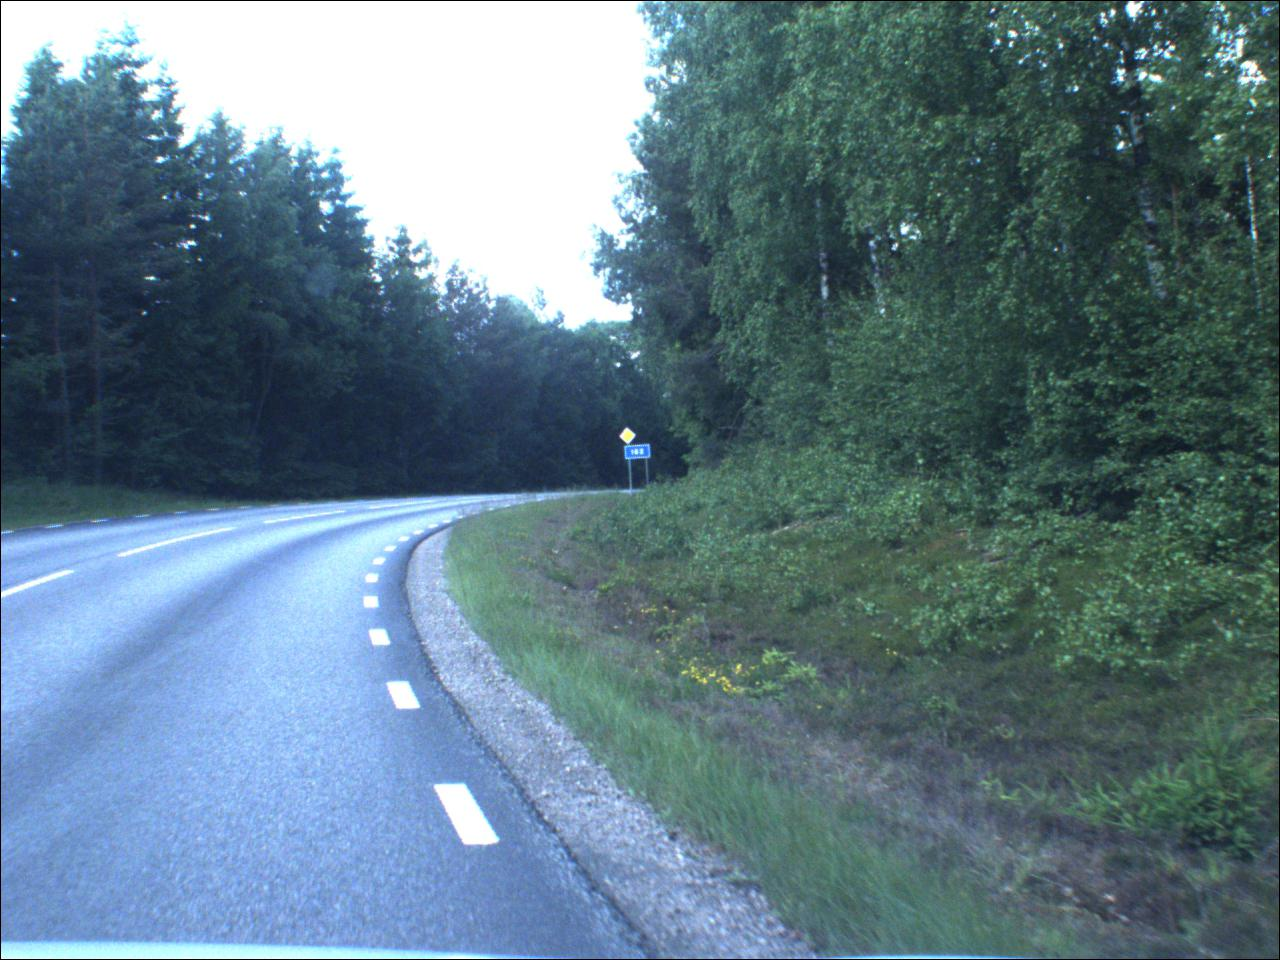PRIORITY_ROAD: (622, 428, 642, 447)
